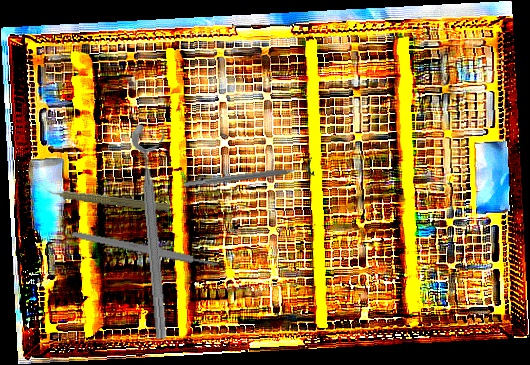Fixation Ring: (130, 122, 185, 341), (183, 156, 315, 195)
Handpiece: (38, 183, 172, 214)
Scalpel Handle: (70, 229, 220, 270)
